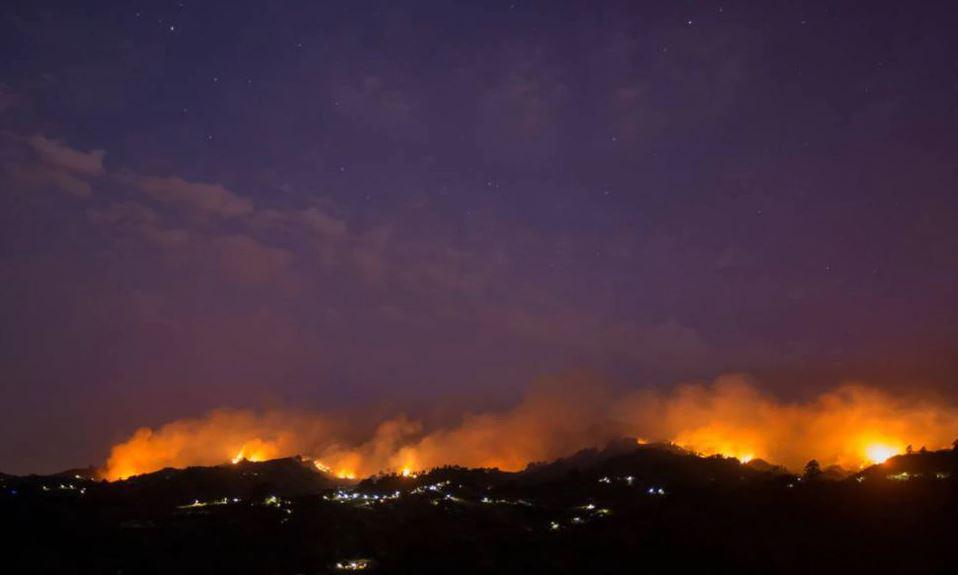fire: (693, 434, 763, 461), (110, 459, 151, 480), (863, 441, 900, 464), (223, 449, 276, 461)
